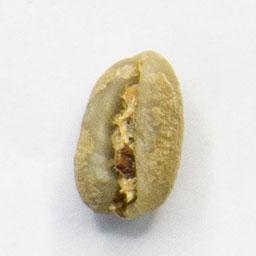longberry: (71, 46, 187, 223)
